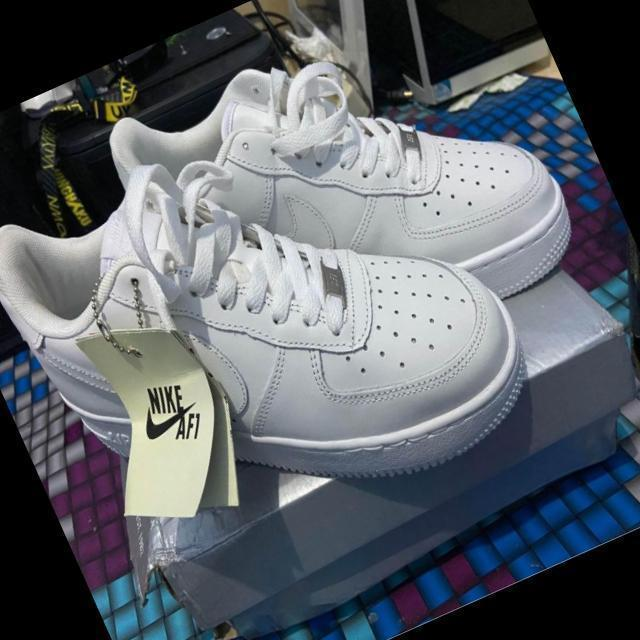nike fake air force: (0, 50, 560, 600), (94, 0, 600, 424)
